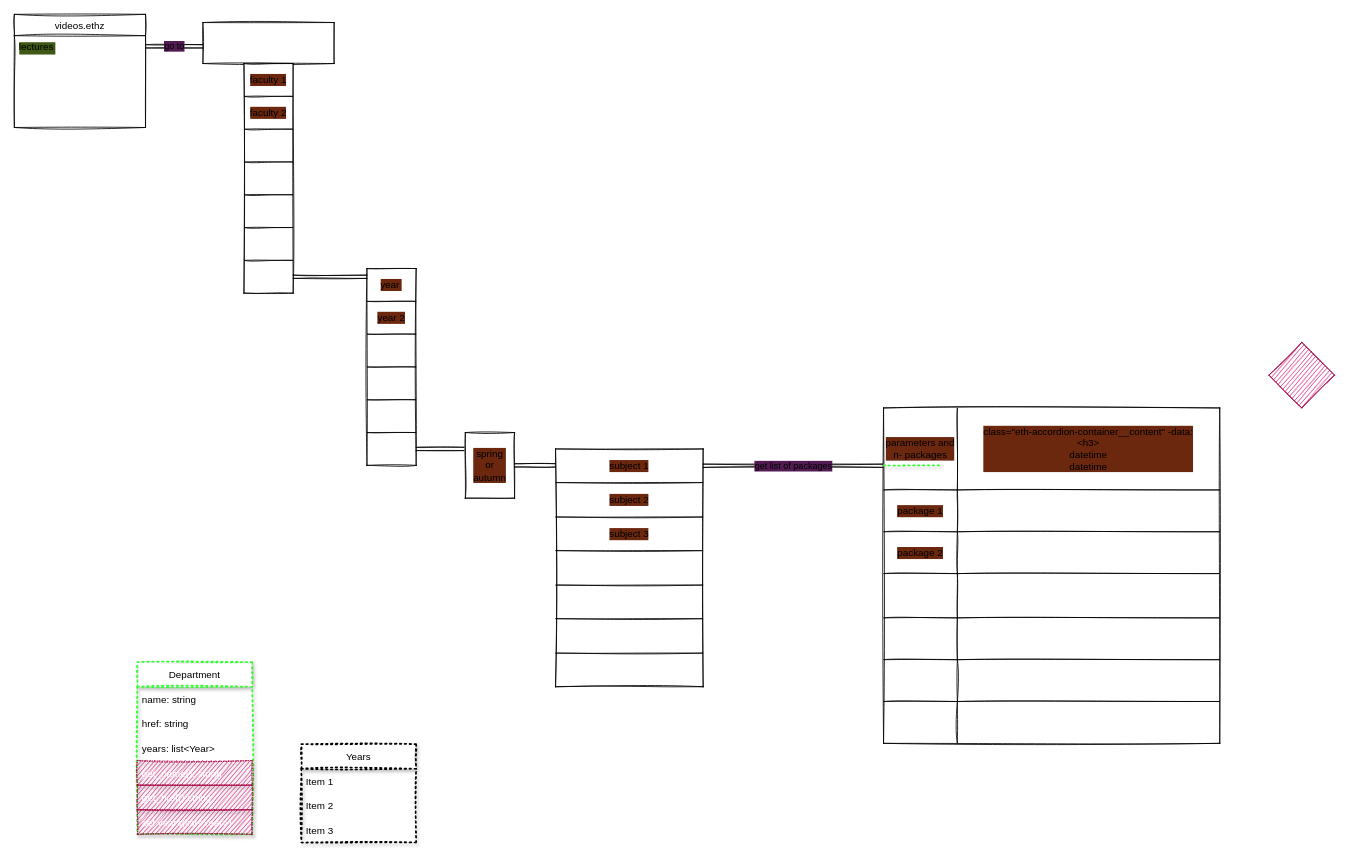
Image size: 1349x863. Some labels were removed from this diagram. Here are the shapes that lost their labels. From the top down, the centre of each, then its label:
[268,43]: n-Faculties withhierarchical structure inside
[1301,375]: grant access
